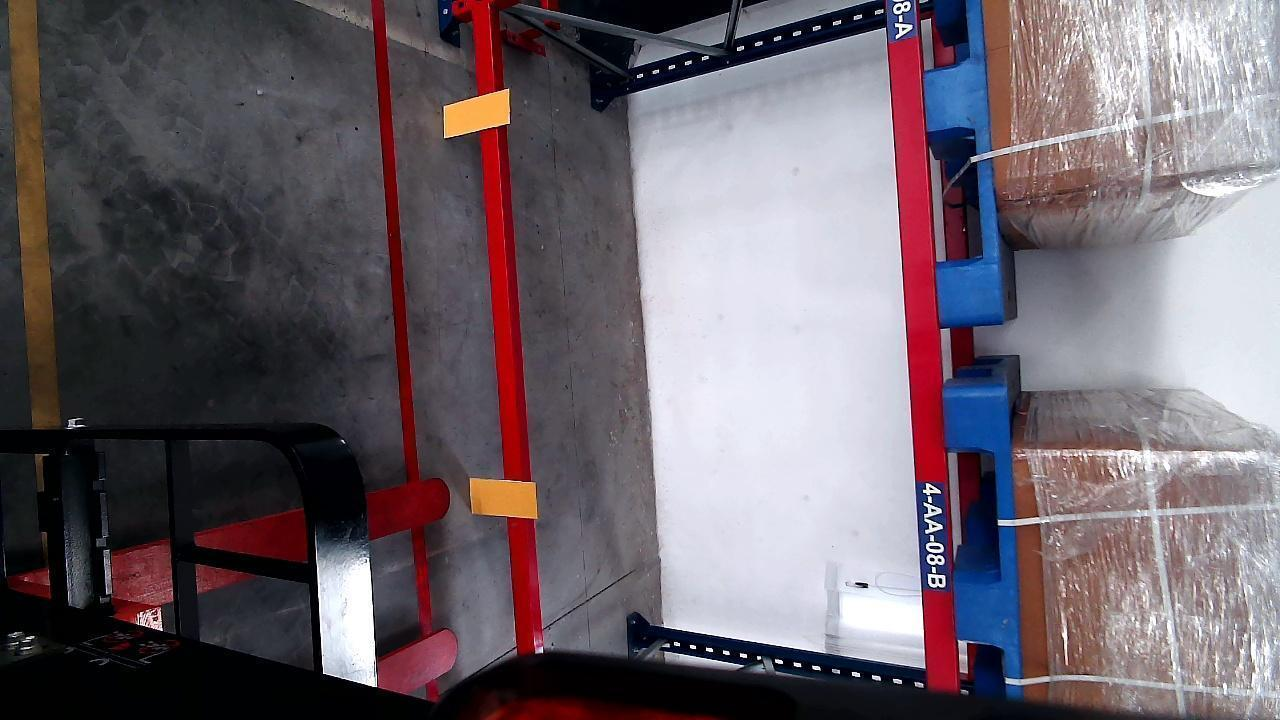red_line: (368, 0, 434, 622)
yellow_line: (12, 0, 61, 432)
